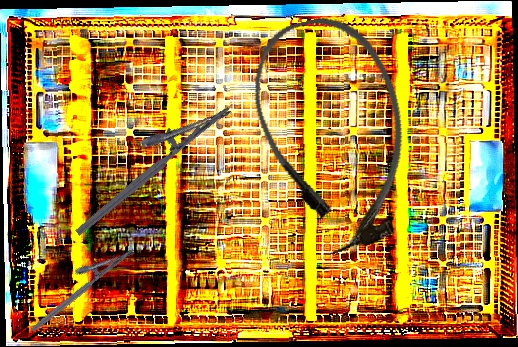Cannula: (238, 4, 430, 264)
Needle Holder: (56, 84, 234, 238), (18, 233, 137, 334)
